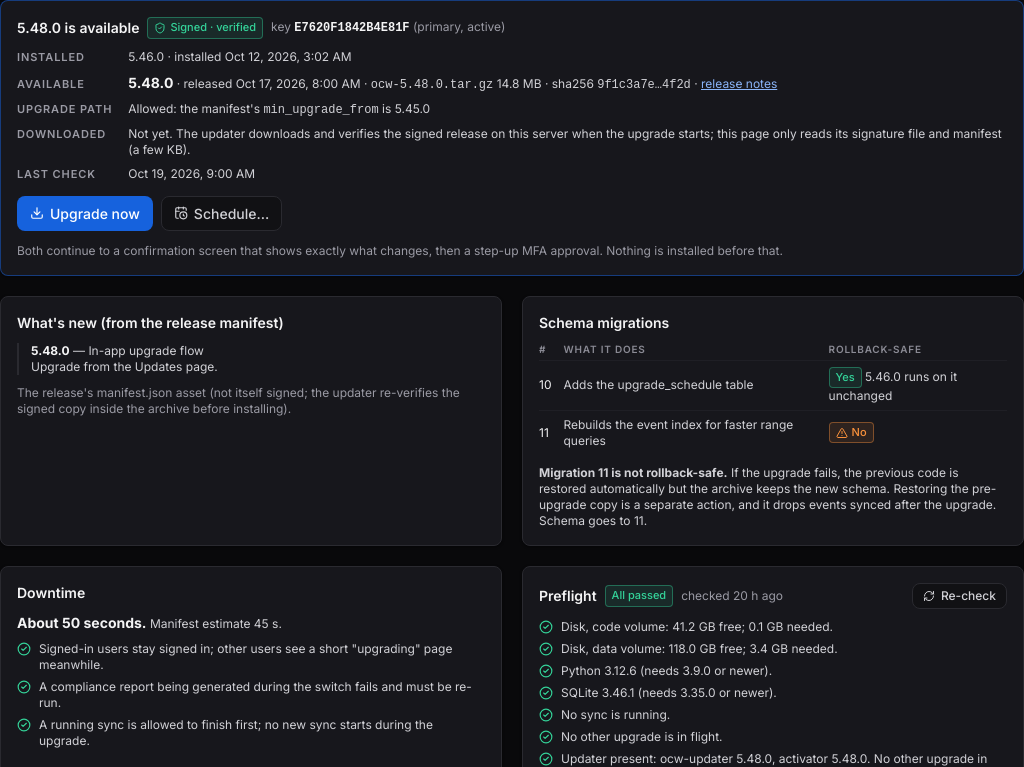
Scenario: 04 schedule dialog › shows the same moment in server, local and UTC, defaulting to tomorrow 03:30 server time
Click the button "Schedule…".
click(222, 213)  # box x1=161 y1=196 x2=282 y2=231
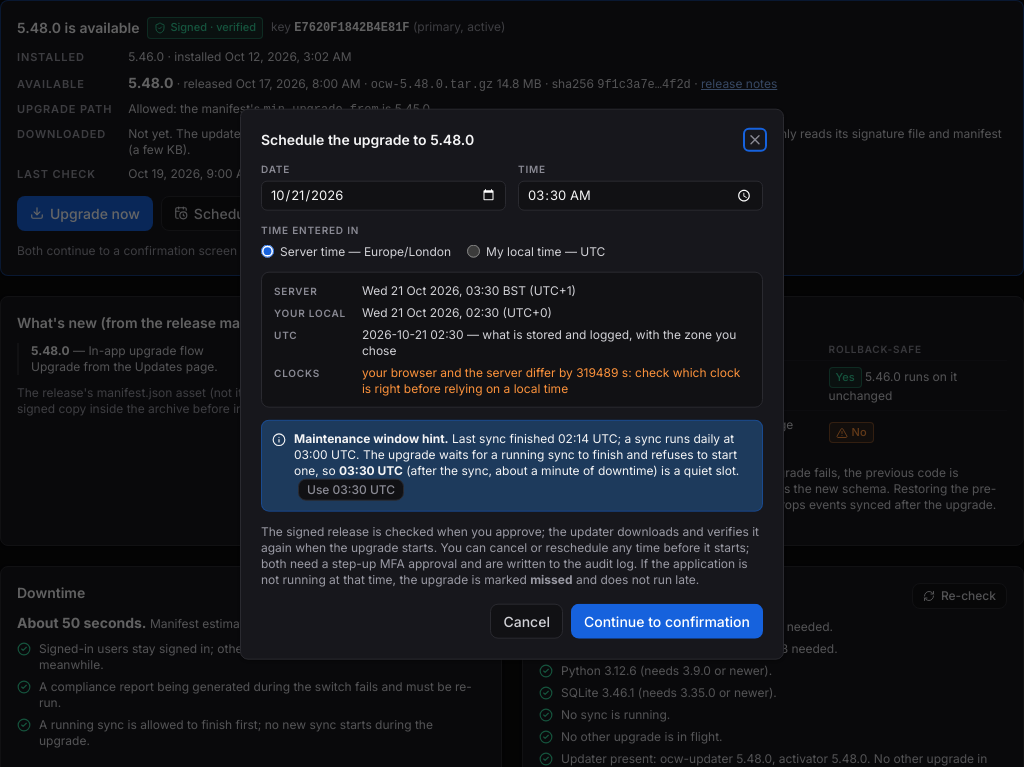
Expected: the date field labelled "Date" holds "2026-10-21", x1=261 y1=181 x2=506 y2=210
Expected: the time field labelled "Time" holds "03:30", x1=518 y1=181 x2=763 y2=210
Expected: the element with test id "sched-times" shows "2026-10-21 02:30", x1=362 y1=326 x2=464 y2=341
